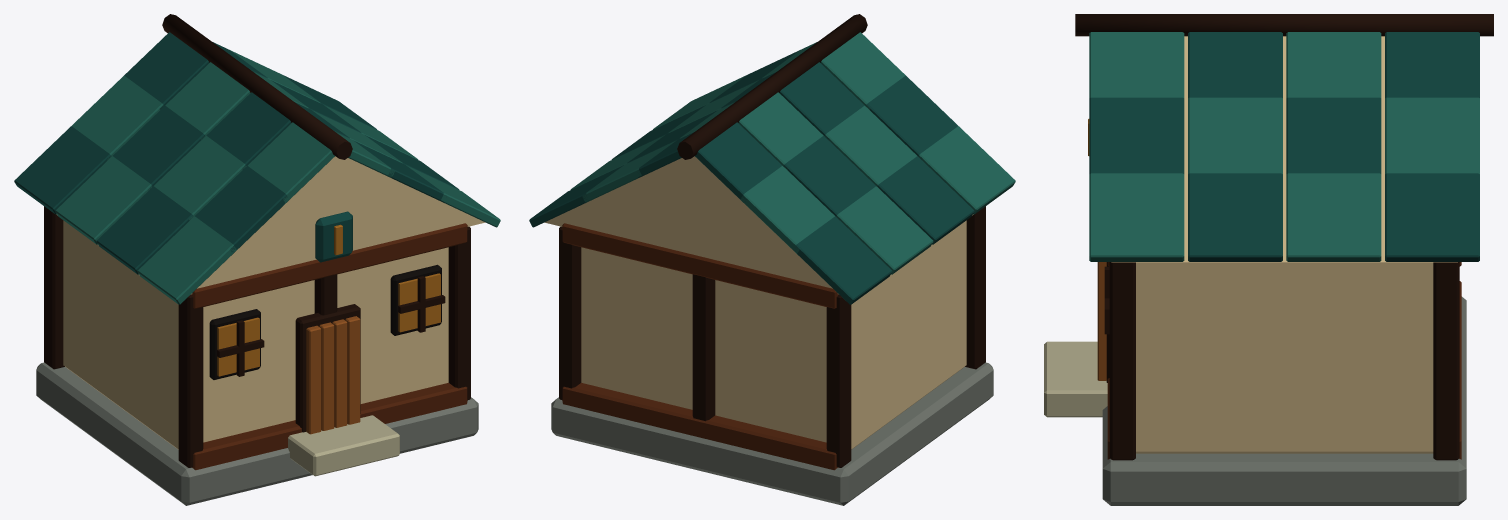
File: guild_hall.obj
3 renders of one model, left to right at view 1: azimuth 30°, elevation 25°; view 2: azimuth 150°, elevation 25°; view 3: azimuth 270°, elevation 25°, orthographic. The views are drawn at different scales.
Parts seen in each view (by area): view 1: guild_hall; view 2: guild_hall; view 3: guild_hall.
Part boxes in pixels (x1,y1,x2,y2): guild_hall: (14, 14, 500, 505); guild_hall: (529, 14, 1015, 505); guild_hall: (1044, 14, 1493, 505).
Size of the model in its own units: 1 by 1 by 1.
